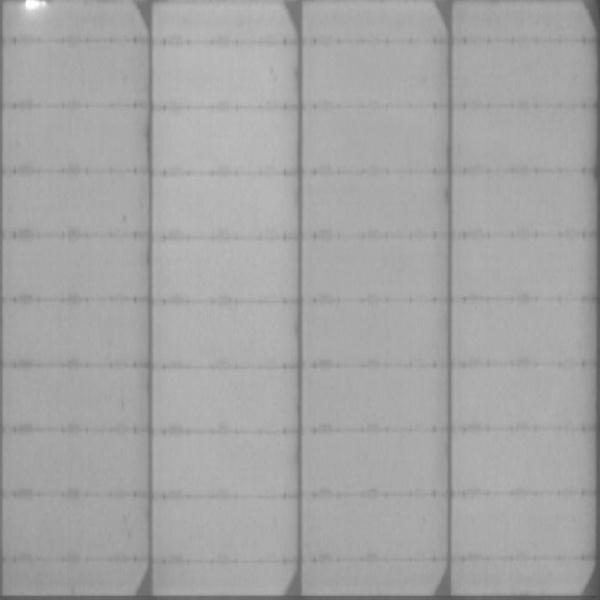hot_spot: (21, 1, 49, 13)
